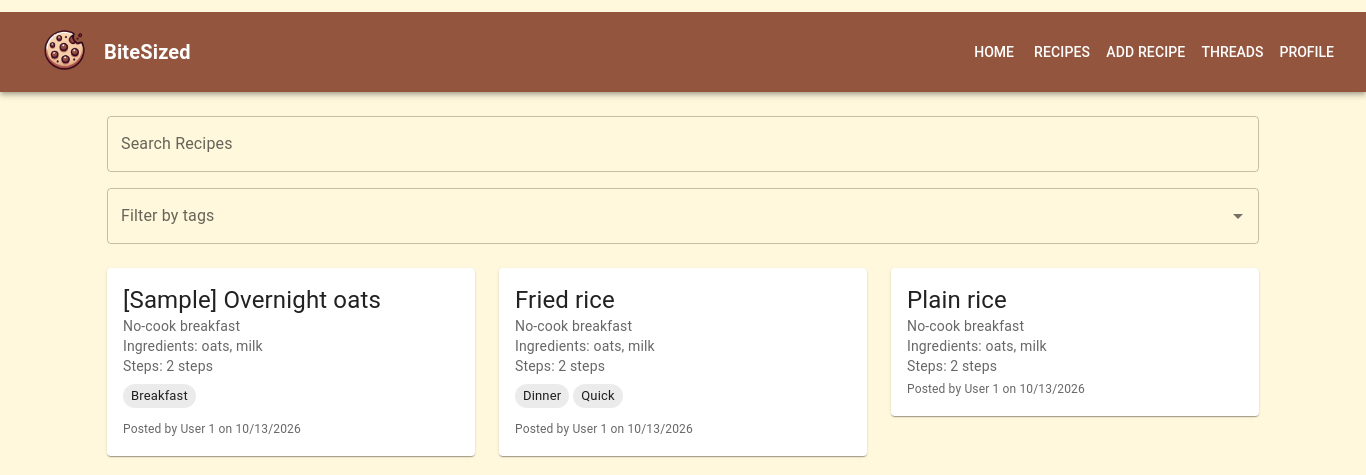
recipe list filters by tag
expect the heading "Fried rice" is shown: met, box [515,286,615,314]
expect the text "Quick" is shown: met, box [581,388,615,403]
Press the mouse on the dropdown labelled "Filter by tags" at (668, 216), box [116,197,1220,235]
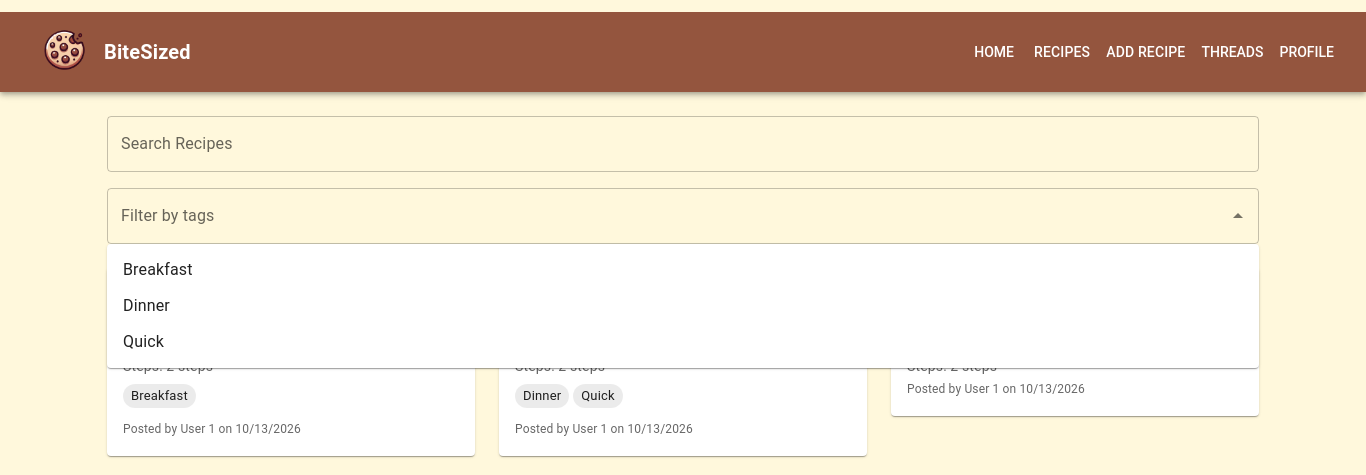
expect the options read "Breakfast", "Dinner", "Quick", in this order: met
Click the option "Dinner". click: (146, 306)
box: [123,296,170,315]
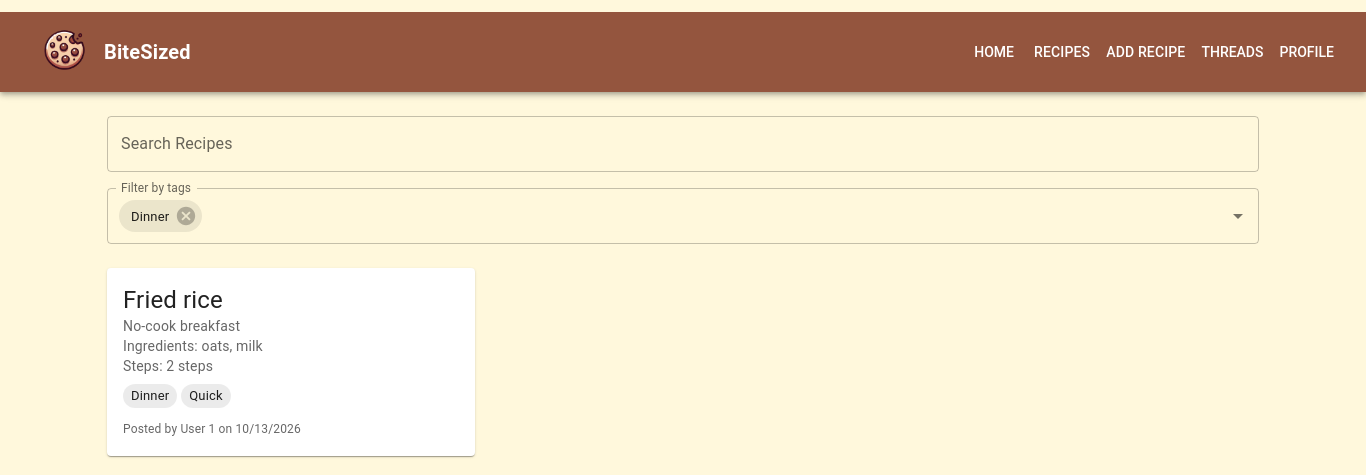
expect the heading "Fried rice" is shown: met, box [123,286,223,314]
expect the link "[Sample] Overnight oats" is gone: met
expect the link "Plain rice" is gone: met
